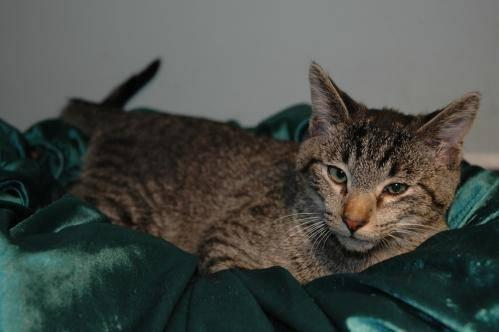cat: (61, 63, 479, 282)
